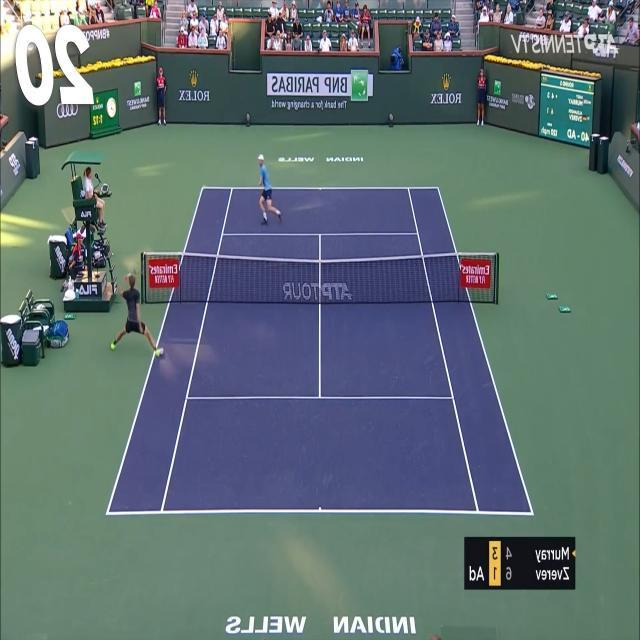court: (104, 185, 534, 516)
net: (140, 252, 500, 306)
player: (110, 259, 163, 359)
